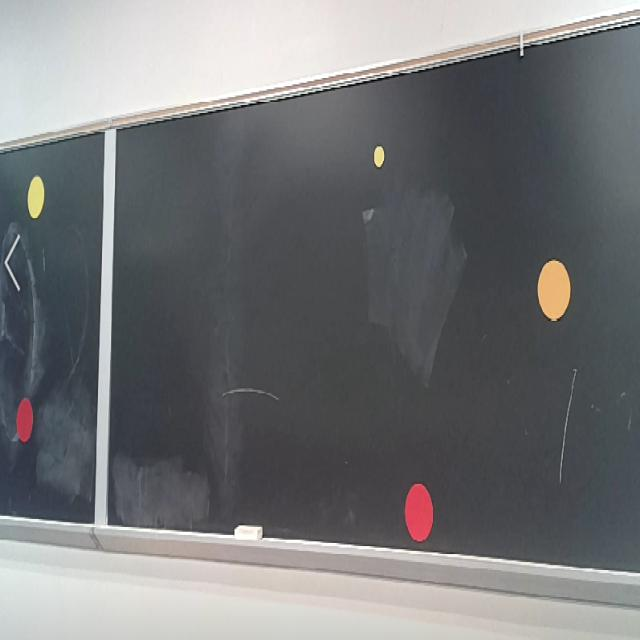Orange: (538, 260, 570, 320)
Red: (405, 483, 433, 541), (16, 397, 33, 443)
Yellow: (28, 176, 44, 219), (374, 146, 385, 168)
